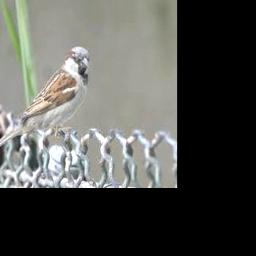Sparrow: (0, 46, 91, 154)
